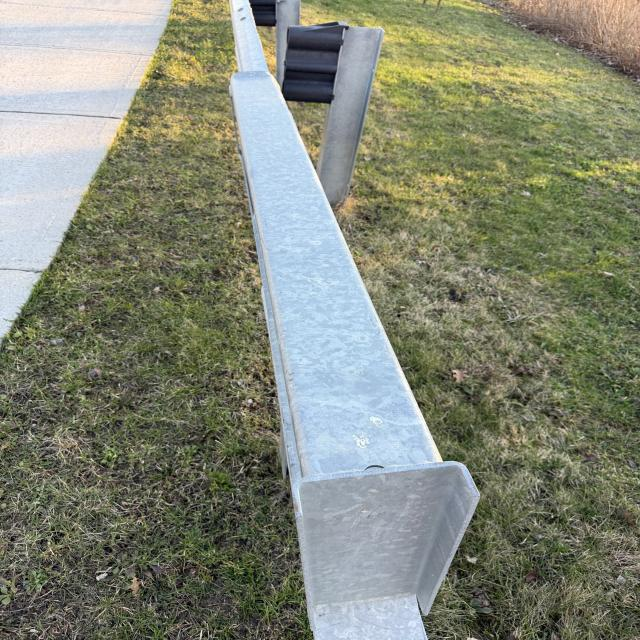Guard rail: (226, 56, 469, 614)
